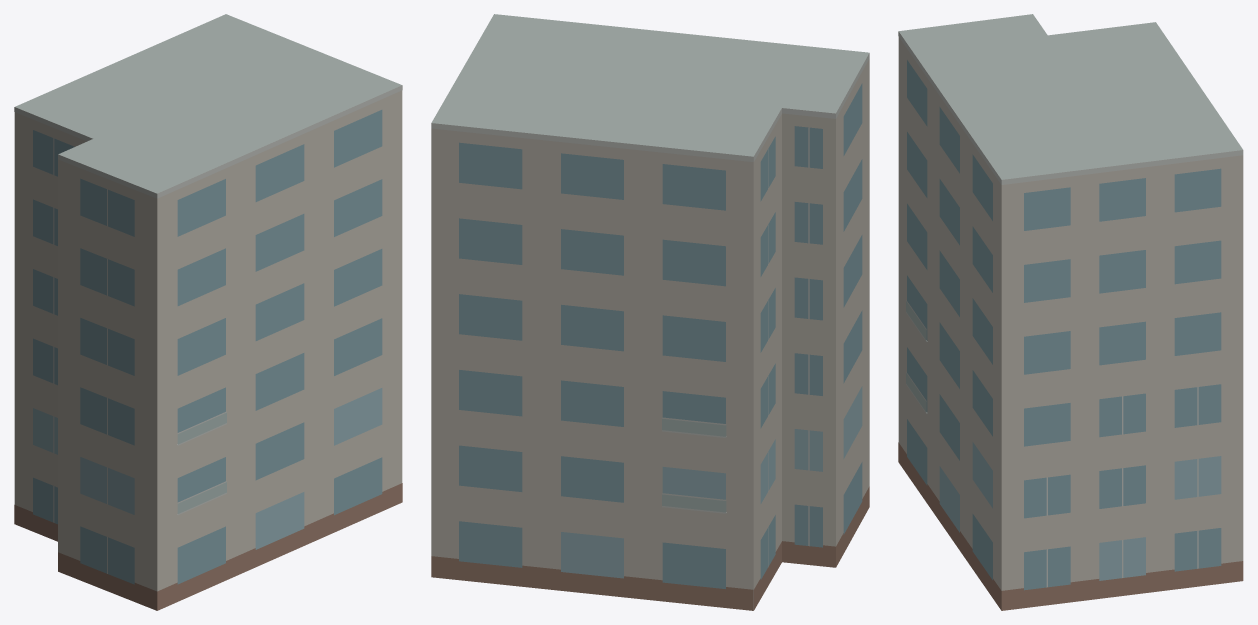
File: survey-upis-32863146.glb
3 renders of one model, left to right at view 1: azimuth 30°, elevation 25°; view 2: azimuth 150°, elevation 25°; view 3: azimuth 270°, elevation 25°, orthographic. The views are drawn at different scales.
Visible parts, largest first — view 1: survey-upis-32863146.tmp; view 2: survey-upis-32863146.tmp; view 3: survey-upis-32863146.tmp.
Part boxes in pixels (<box>): survey-upis-32863146.tmp: <box>14,14,402,610</box>; survey-upis-32863146.tmp: <box>431,14,869,610</box>; survey-upis-32863146.tmp: <box>898,14,1243,610</box>.
Size of the model in its own units: 16.79 by 20.32 by 14.75.
